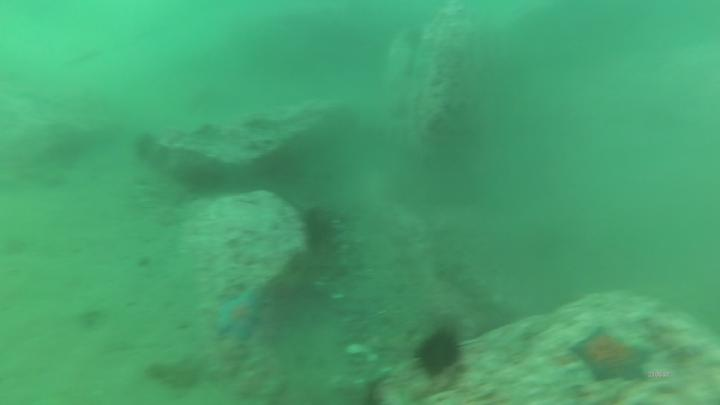echinus: (415, 323, 465, 384), (297, 202, 336, 252)
starfish: (572, 329, 662, 386), (215, 290, 265, 338)
